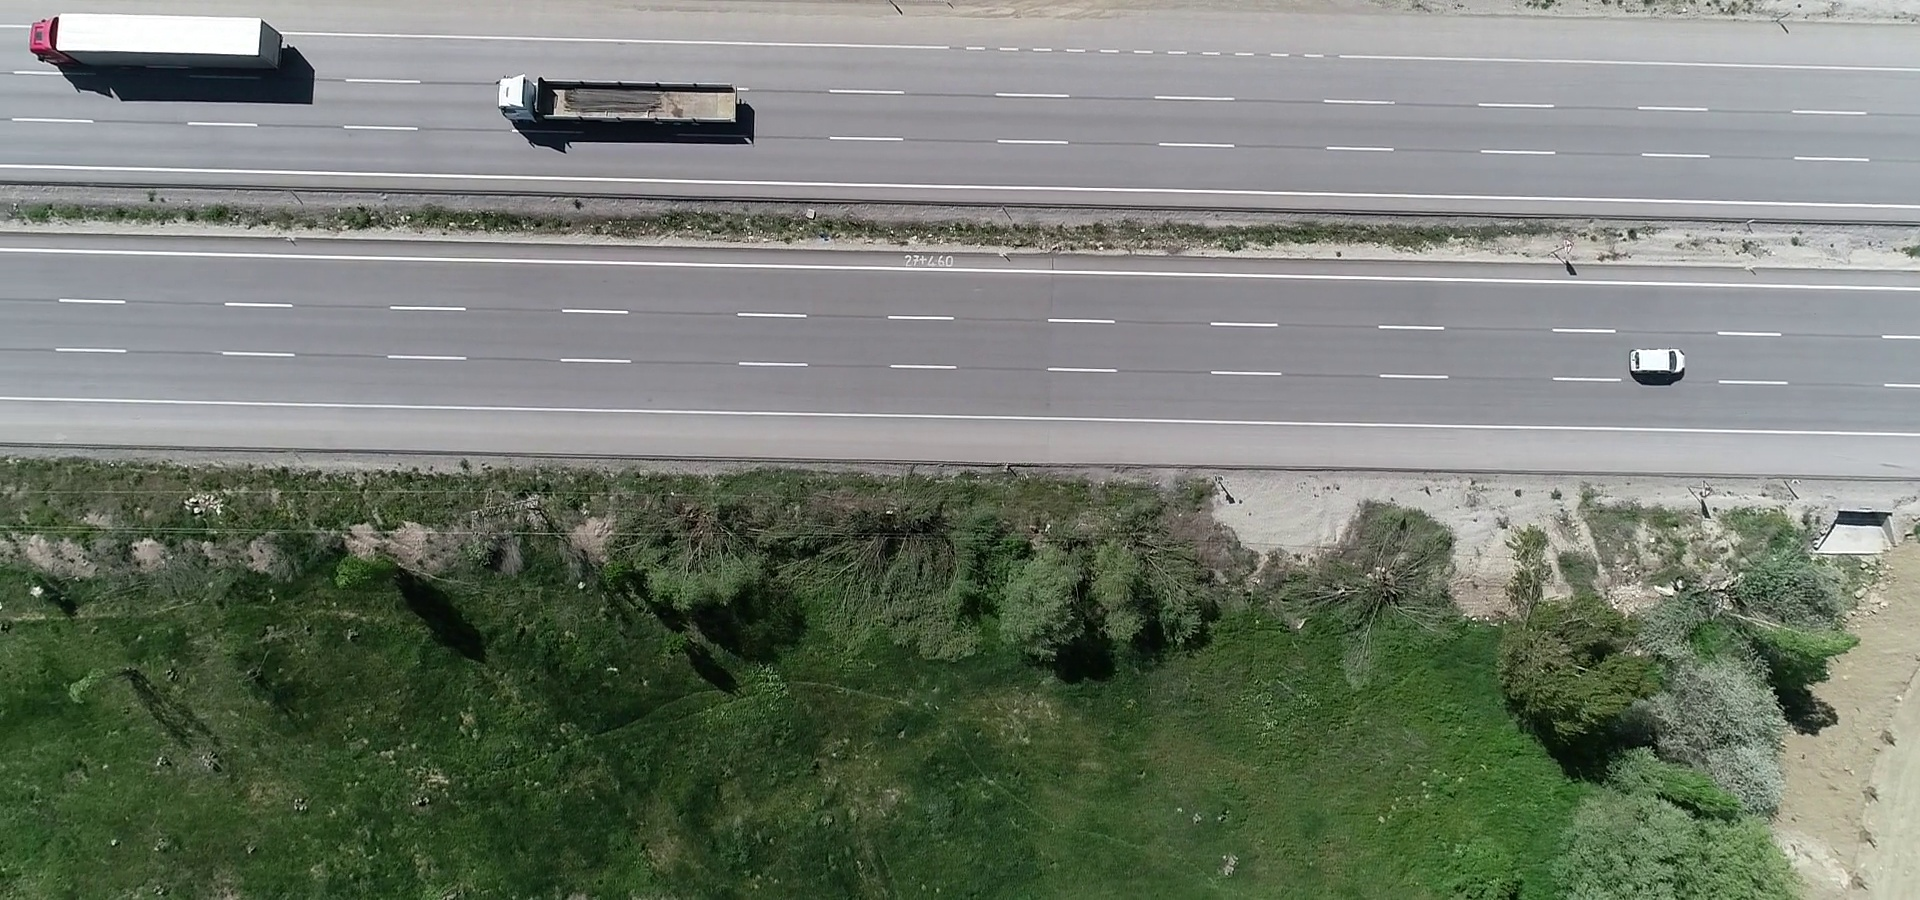araba: (1619, 344, 1691, 381)
kamyon: (489, 75, 749, 138), (23, 6, 287, 67)
